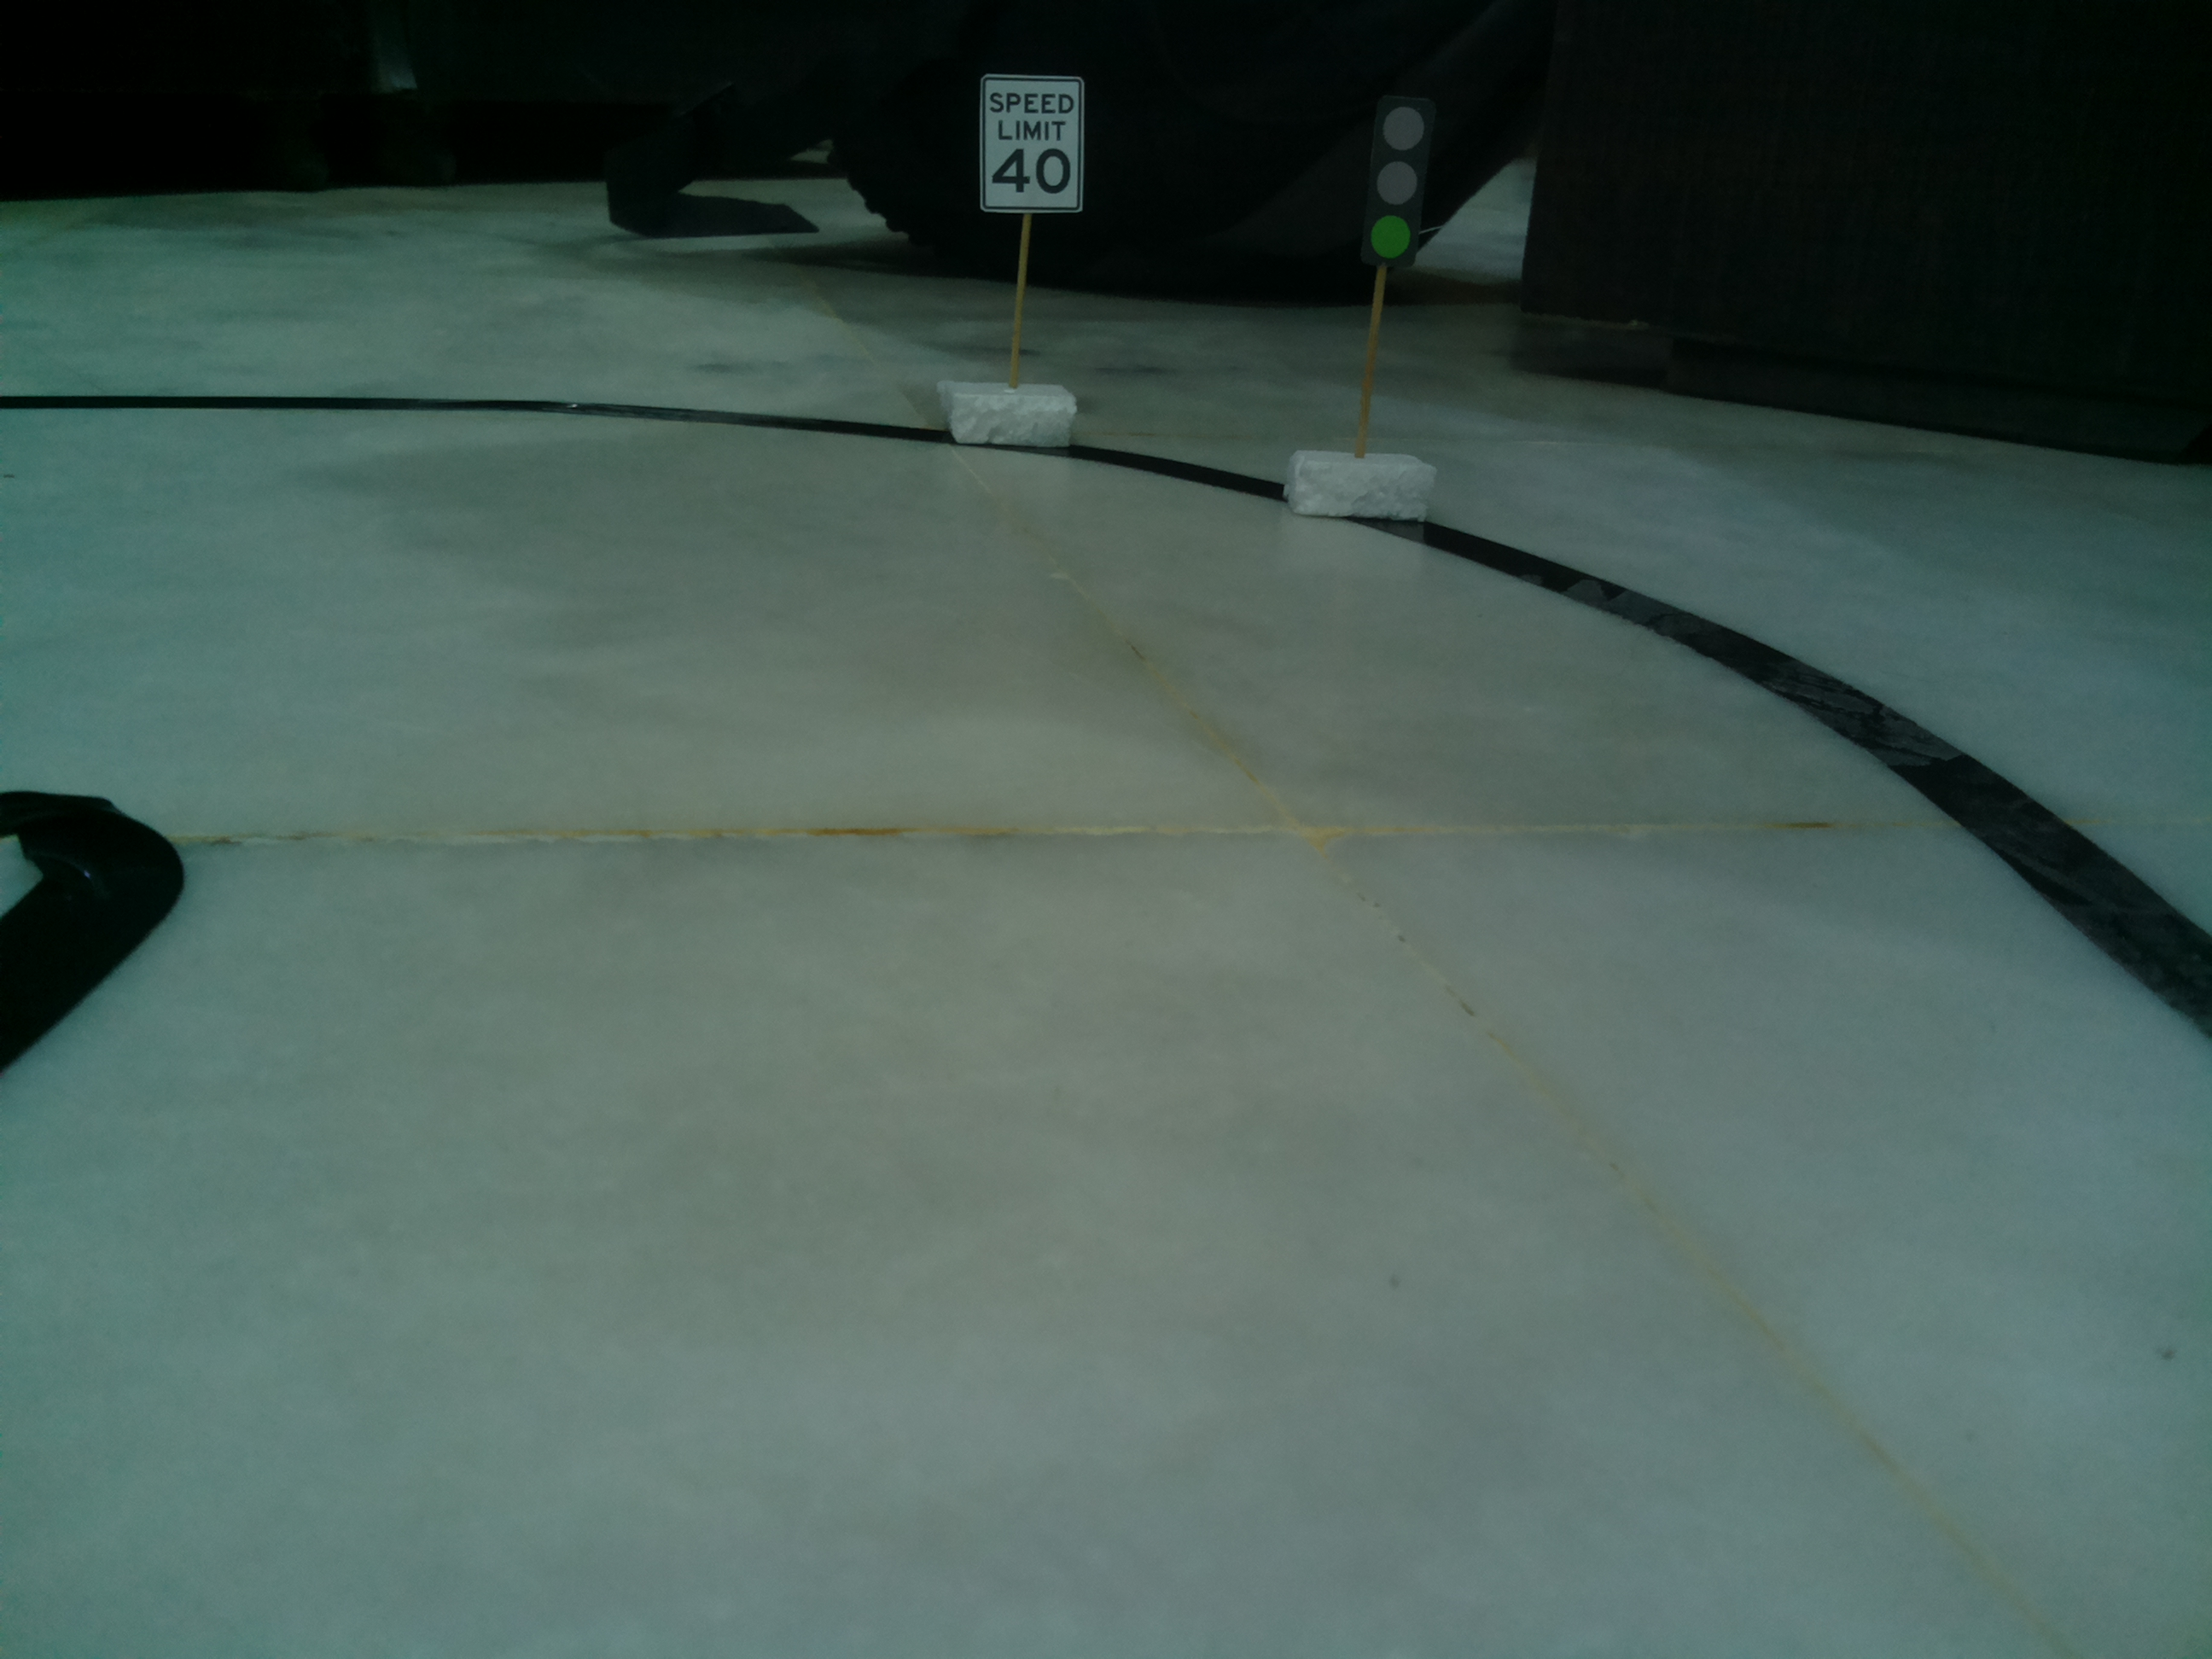Green traffic light: (1359, 94, 1432, 275)
Speed limit 40: (975, 66, 1087, 218)
